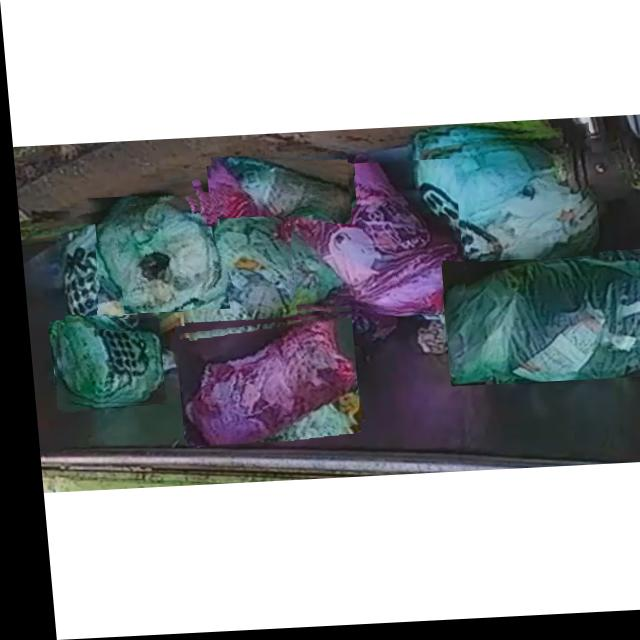general_trashbag: (440, 262, 640, 388), (414, 142, 593, 265), (178, 214, 333, 350), (86, 201, 221, 313), (212, 159, 346, 227), (49, 322, 156, 404), (58, 224, 117, 329)
other_trashbag: (284, 166, 457, 317), (176, 319, 350, 446)
